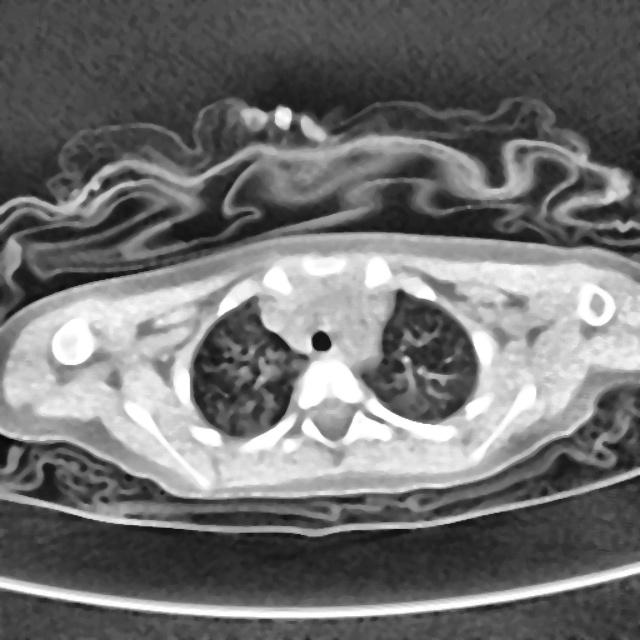covid: (1, 228, 638, 527)
